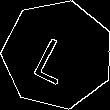L_NE: (32, 25, 84, 84)
